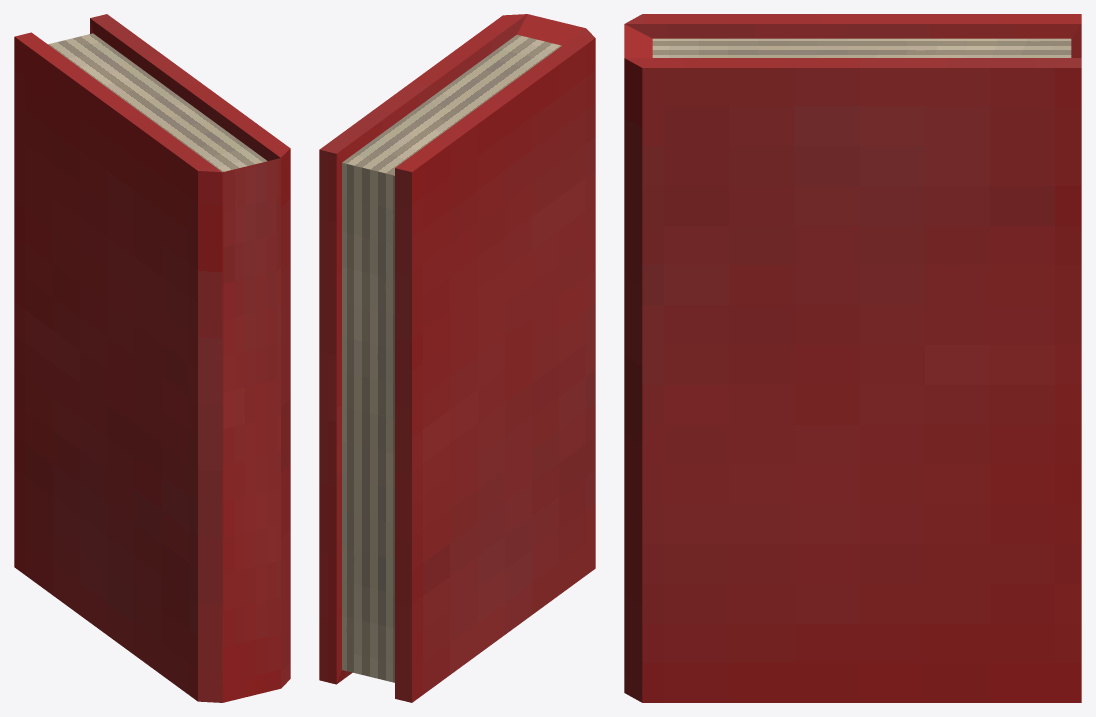
File: red_book.obj
The picture shows the model from 3 angles, left to right: view 1: azimuth 30°, elevation 25°; view 2: azimuth 150°, elevation 25°; view 3: azimuth 270°, elevation 25°; orthographic projection. The views are drawn at different scales.
Parts seen in each view (by area): view 1: Cube_Cube.001; view 2: Cube_Cube.001; view 3: Cube_Cube.001.
Boxes of the visible parts, bbox=[...] form: Cube_Cube.001: bbox=[14, 14, 290, 702]; Cube_Cube.001: bbox=[319, 14, 595, 702]; Cube_Cube.001: bbox=[624, 14, 1081, 702].
Bounding box in the file's own units: 0.1501 × 0.822 × 0.5363.
